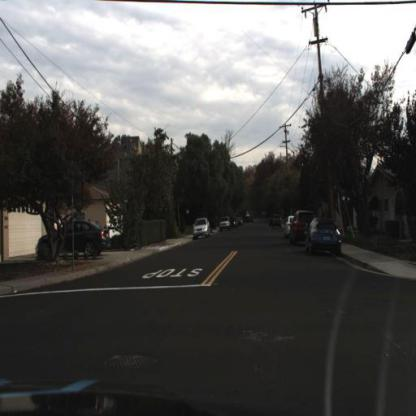car: (35, 219, 110, 259), (305, 218, 345, 260), (291, 212, 316, 247), (194, 215, 212, 241), (269, 213, 287, 234), (283, 211, 295, 241), (219, 215, 234, 236), (218, 215, 233, 233)
